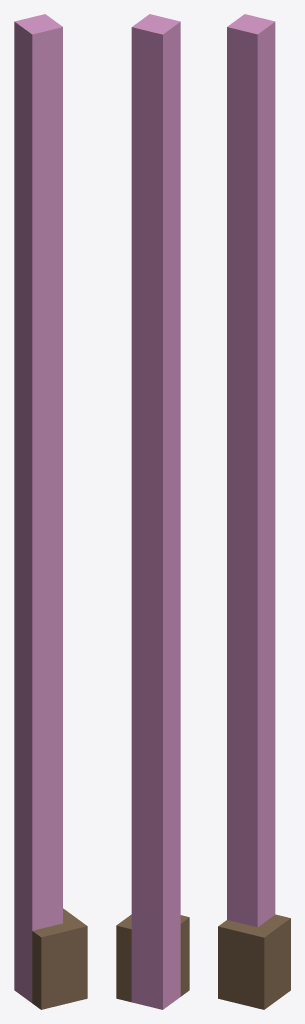
File: Mesh_WallBaseboard_G6.fbx
3 renders of one model, left to right at view 1: azimuth 30°, elevation 25°; view 2: azimuth 150°, elevation 25°; view 3: azimuth 330°, elevation 25°, orthographic.
Parts seen in each view (by area): view 1: Mesh_WallBaseboard_G6; view 2: Mesh_WallBaseboard_G6; view 3: Mesh_WallBaseboard_G6.
Part boxes in pixels (x1=…): Mesh_WallBaseboard_G6: x1=14, y1=14, x2=87, y2=1009; Mesh_WallBaseboard_G6: x1=116, y1=14, x2=189, y2=1009; Mesh_WallBaseboard_G6: x1=218, y1=14, x2=290, y2=1009.
Size of the model in its own units: 0.15 by 3 by 0.15.
